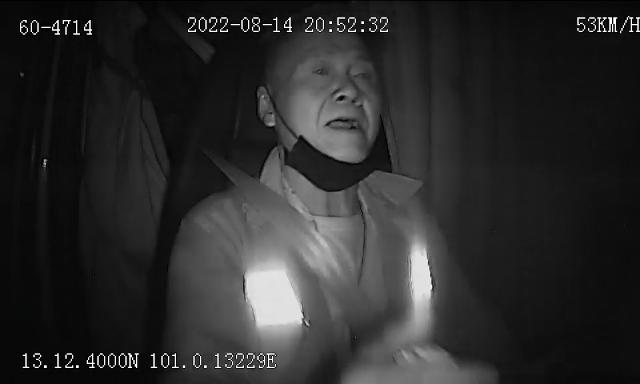Seatbelt: (182, 103, 384, 345)
